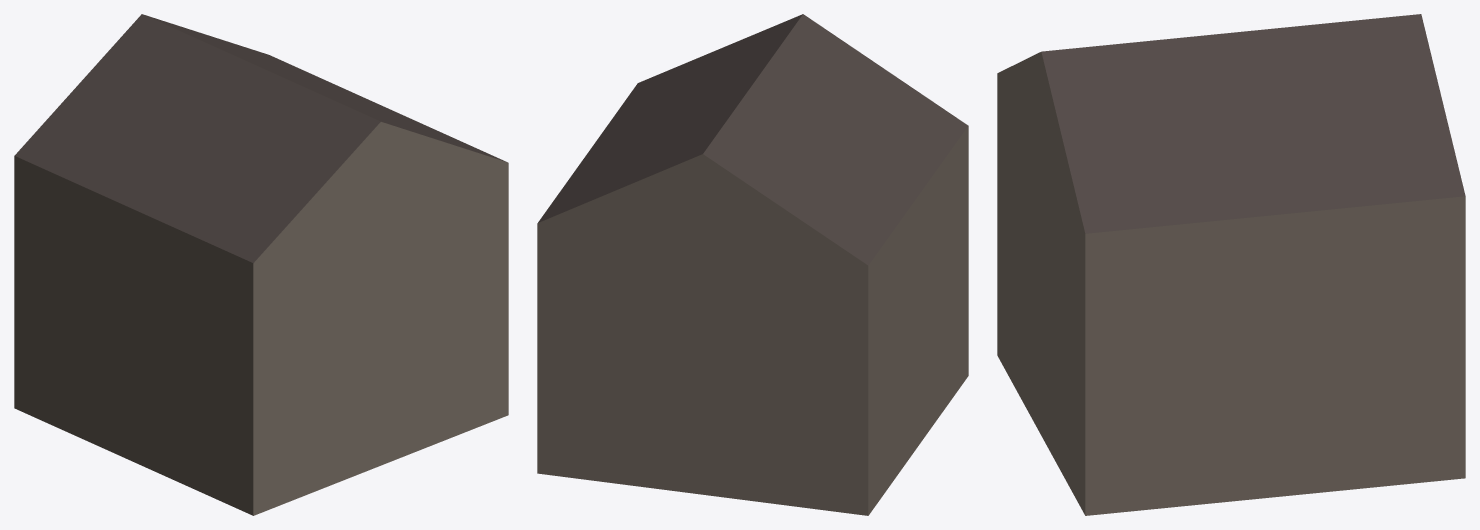
3 renders of one model, left to right at view 1: azimuth 30°, elevation 25°; view 2: azimuth 150°, elevation 25°; view 3: azimuth 270°, elevation 25°, orthographic. The views are drawn at different scales.
Parts seen in each view (by area): view 1: HP-w1197596636; view 2: HP-w1197596636; view 3: HP-w1197596636.
Part boxes in pixels (x1,y1,x2,y2): HP-w1197596636: [14, 14, 508, 515]; HP-w1197596636: [537, 14, 968, 515]; HP-w1197596636: [997, 14, 1465, 515].
Size of the model in its own units: 9.03 by 8.17 by 9.03.
